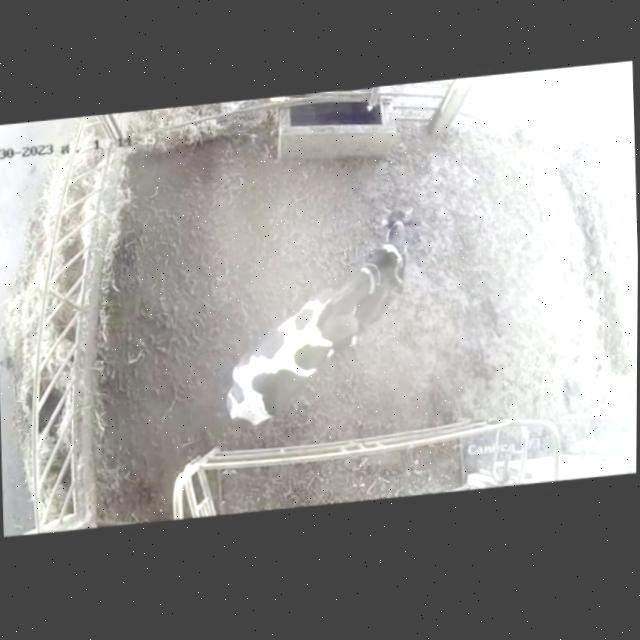ride: (175, 239, 435, 441)
stand: (319, 196, 427, 356)
